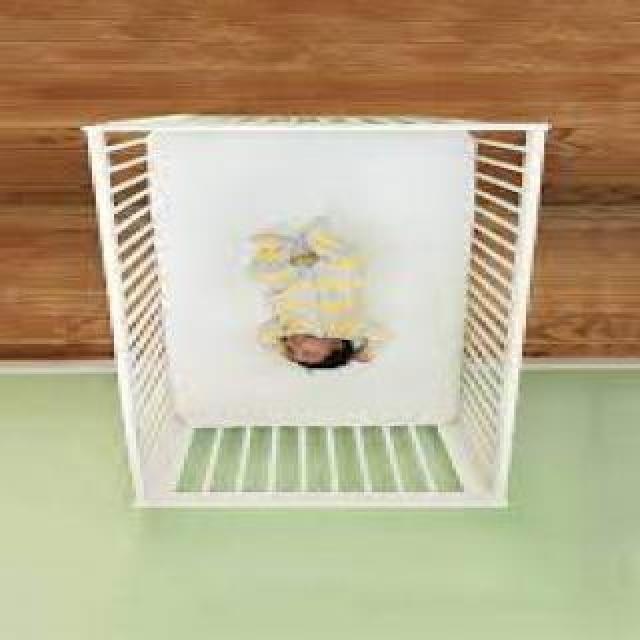baby: (250, 214, 390, 374)
